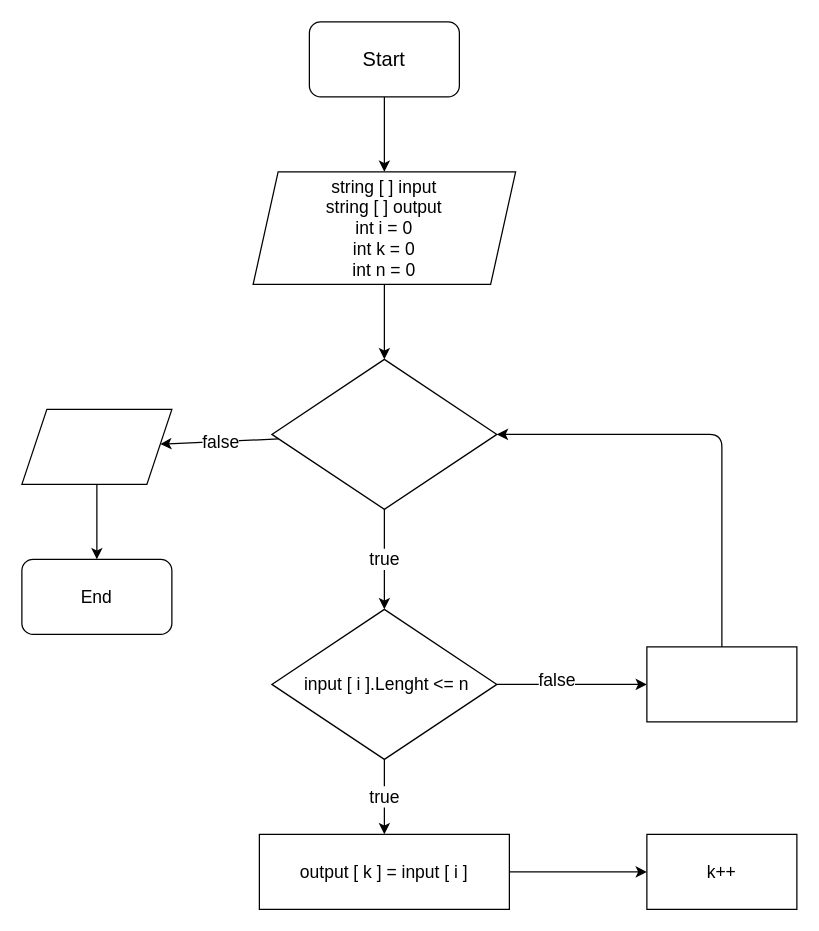
Some shapes in this 819 by 931 pixel diagram are drawn without their labels. The shapes that lost their labels are listed below. From the top down, each one's box as (x1, y1, x2, y2) in pixels, then its label:
(21, 408, 172, 484): output
(271, 358, 497, 509): i < input.Lenght
(646, 646, 797, 722): i++
